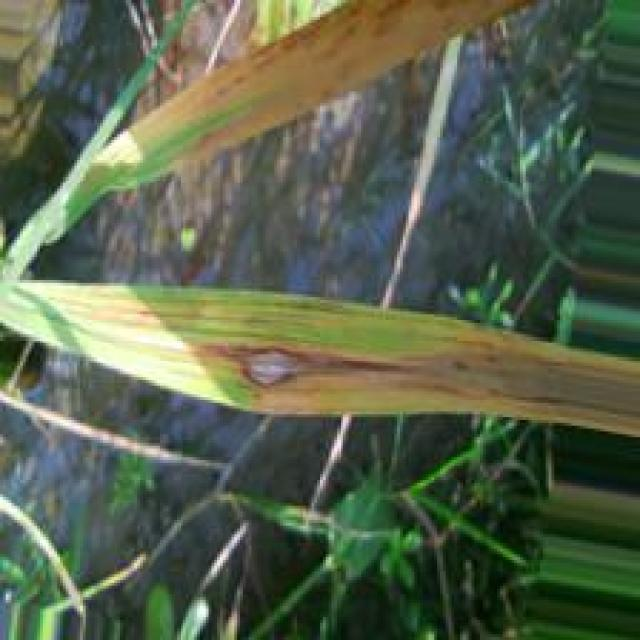Leaf_Blast: (101, 0, 542, 180), (188, 330, 640, 434)
